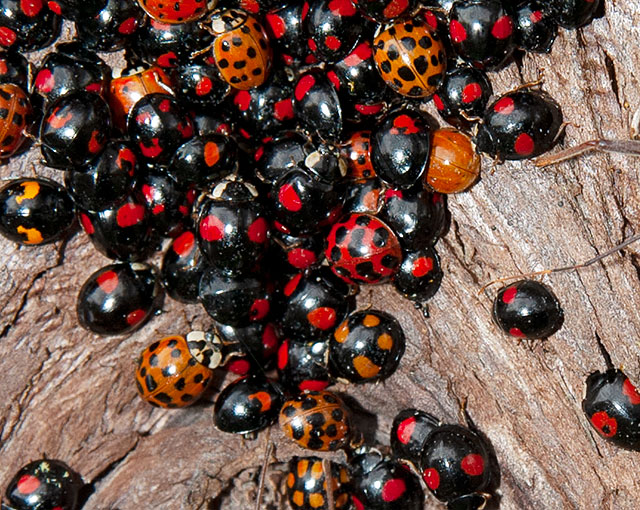rash: (285, 455, 350, 510)
red: (136, 333, 225, 411), (326, 213, 403, 288), (372, 21, 445, 96), (210, 7, 273, 90), (279, 390, 361, 450)
two_spots: (73, 260, 165, 334), (197, 175, 270, 265), (80, 182, 160, 260), (476, 91, 563, 161), (420, 423, 494, 502), (326, 213, 403, 288), (0, 175, 76, 247), (272, 268, 348, 338), (43, 93, 111, 171), (445, 0, 519, 71), (582, 369, 640, 455), (490, 279, 563, 342), (209, 375, 283, 433)
two_spots_mutant: (333, 309, 403, 383), (128, 93, 195, 164), (232, 82, 296, 147), (298, 0, 363, 63)
